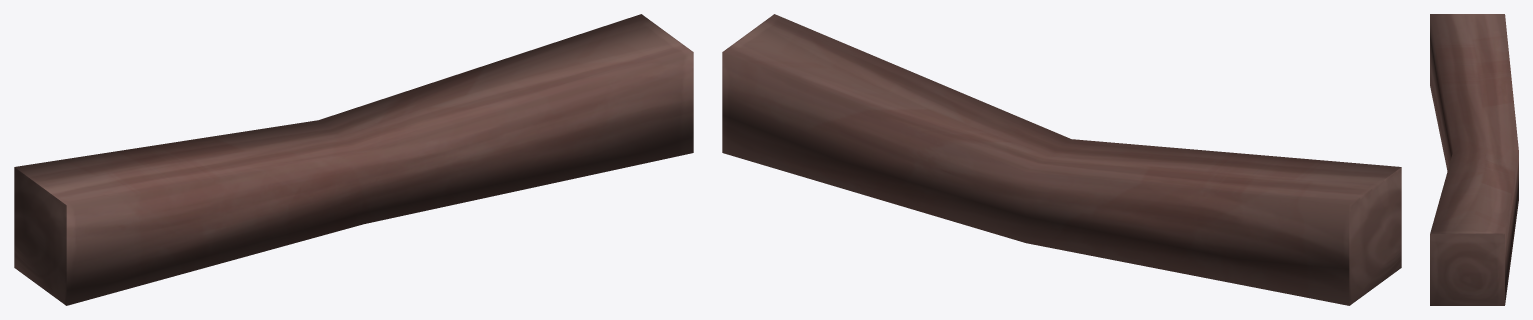
File: curtain_2.FBX
3 views of the same model, side by side, from view 1: azimuth 30°, elevation 25°; view 2: azimuth 150°, elevation 25°; view 3: azimuth 270°, elevation 25° (orthographic). The views are drawn at different scales.
Parts seen in each view (by area): view 1: curtain_2; view 2: curtain_2; view 3: curtain_2.
Boxes of the visible parts, x1=… form: curtain_2: x1=14, y1=14, x2=693, y2=305; curtain_2: x1=722, y1=14, x2=1401, y2=305; curtain_2: x1=1430, y1=14, x2=1518, y2=305.
Bounding box in the file's own units: 88.62 × 13.53 × 14.1.
Materials: 1 (1 with a texture image).
